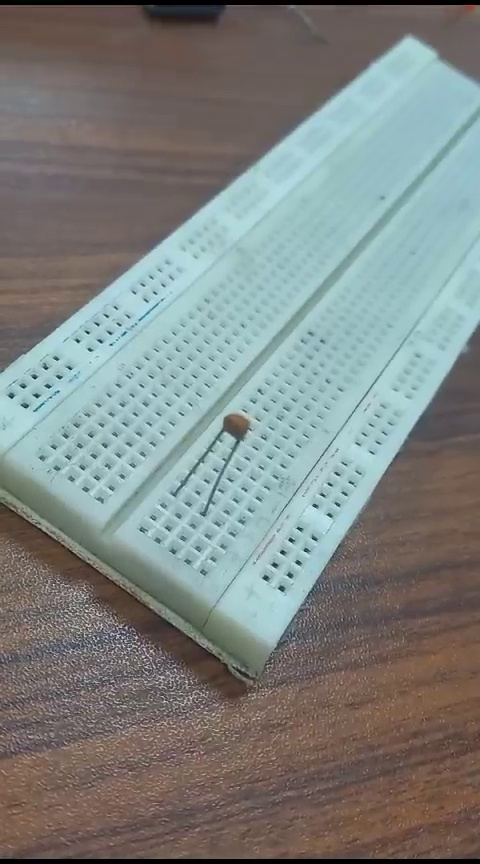ceramic capacitor: (186, 408, 260, 499)
